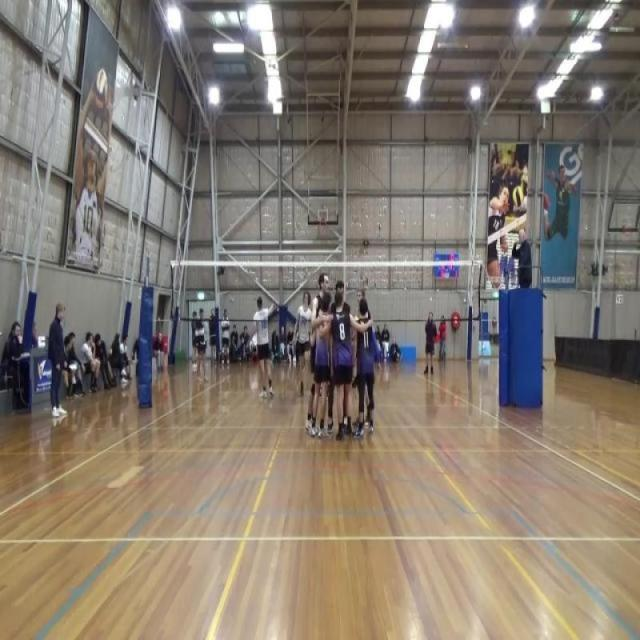volleyball: (95, 67, 108, 111), (512, 184, 526, 211)
